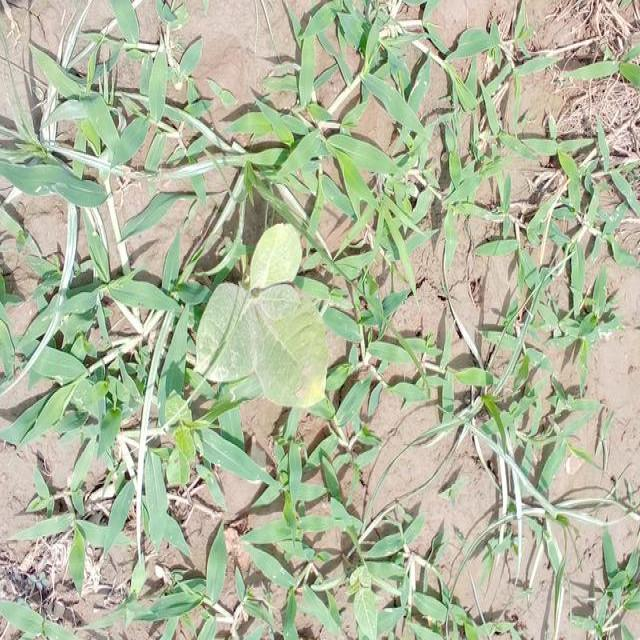crop: (198, 216, 330, 410)
